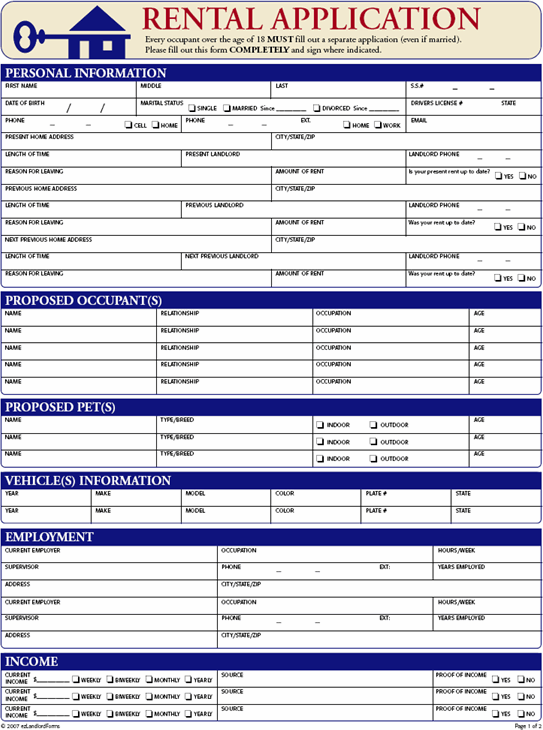checkbox: (103, 672, 115, 685), (311, 101, 322, 114), (122, 118, 134, 129), (516, 170, 528, 181), (515, 221, 527, 232), (368, 418, 379, 430), (182, 672, 193, 684), (143, 689, 154, 701), (182, 690, 193, 702), (104, 708, 116, 719), (515, 272, 526, 283), (368, 452, 379, 463), (490, 674, 501, 685), (149, 120, 161, 130), (493, 169, 503, 181), (492, 222, 504, 232), (314, 435, 324, 447), (368, 435, 378, 447), (183, 707, 193, 719), (516, 690, 526, 702), (221, 102, 231, 113), (372, 119, 383, 129), (314, 419, 325, 429), (71, 708, 81, 719), (143, 709, 154, 719), (516, 673, 526, 684), (490, 691, 500, 702), (515, 708, 526, 718), (316, 452, 325, 464), (492, 272, 502, 282), (342, 119, 351, 130), (71, 673, 80, 684), (144, 673, 153, 684), (71, 691, 80, 702), (491, 707, 500, 718), (187, 102, 196, 112), (105, 691, 113, 701)
textbox: (215, 574, 543, 601), (213, 625, 543, 651), (1, 214, 276, 239), (268, 231, 543, 256), (1, 265, 275, 290), (1, 231, 274, 255), (212, 591, 438, 619), (1, 181, 274, 204), (271, 130, 543, 153), (214, 540, 438, 567), (1, 164, 275, 186), (135, 96, 408, 118), (270, 181, 543, 203), (215, 558, 437, 585), (1, 592, 221, 619), (212, 609, 437, 635), (178, 248, 411, 273), (214, 683, 438, 709), (214, 699, 438, 725), (1, 130, 275, 151), (1, 558, 221, 584), (1, 575, 221, 601), (1, 626, 221, 652), (1, 541, 220, 567), (215, 667, 438, 691), (179, 198, 409, 221), (181, 147, 409, 170), (152, 409, 316, 440), (1, 611, 221, 634), (308, 355, 473, 384), (180, 114, 407, 135), (308, 337, 474, 365), (153, 355, 318, 383), (1, 249, 183, 274), (1, 354, 162, 382), (151, 443, 316, 470), (1, 338, 160, 366), (152, 370, 315, 397), (310, 320, 472, 347), (1, 321, 161, 348), (152, 429, 317, 455), (309, 305, 473, 331), (153, 338, 317, 364), (309, 372, 472, 398), (1, 147, 185, 170), (153, 304, 315, 330), (1, 429, 163, 455), (1, 305, 161, 331), (1, 198, 183, 220), (1, 412, 161, 437), (1, 373, 160, 398), (1, 446, 160, 471), (154, 322, 316, 346), (268, 214, 410, 240), (1, 114, 184, 134), (403, 265, 543, 291), (405, 76, 543, 102), (268, 265, 409, 290), (403, 93, 543, 118), (403, 197, 543, 222), (404, 163, 543, 188), (404, 215, 543, 240), (403, 250, 543, 274), (270, 163, 409, 187), (270, 77, 407, 101), (430, 591, 543, 619), (404, 148, 543, 170), (428, 609, 543, 635), (135, 79, 272, 100), (405, 115, 543, 135), (1, 80, 138, 100), (1, 96, 137, 116), (268, 484, 365, 512), (358, 484, 455, 512), (449, 483, 543, 510), (265, 501, 366, 526), (178, 486, 275, 512), (429, 543, 543, 565), (88, 502, 188, 527), (88, 486, 184, 512), (357, 501, 455, 526), (447, 502, 543, 527), (178, 502, 275, 526), (1, 486, 94, 511), (1, 502, 97, 526), (430, 561, 543, 581), (465, 354, 543, 382), (465, 338, 543, 365), (466, 411, 543, 438), (466, 445, 543, 471), (467, 321, 543, 347), (465, 429, 543, 454), (466, 305, 543, 330), (465, 373, 543, 397), (103, 97, 139, 117), (70, 97, 104, 118), (44, 97, 69, 117)
textline: (35, 671, 71, 684), (36, 689, 70, 702), (37, 708, 70, 719), (370, 102, 400, 113), (276, 103, 306, 113)
